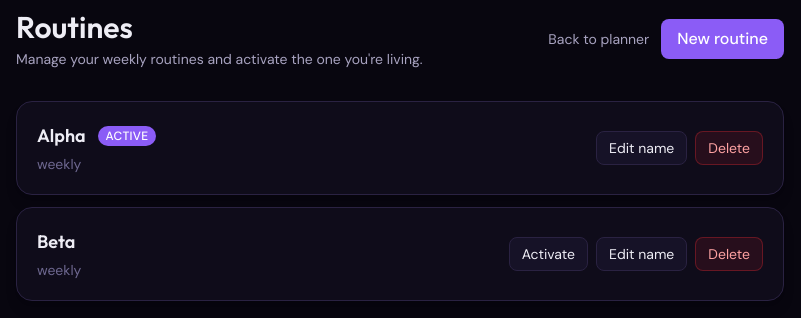
Test: Routines page › activates a routine and updates the active badge
Expected: the heading "Alpha" is shown, [37,122,86,150]
Expected: the text "Active" is shown, [98,126,156,146]
Click the button "Activate" at x=548, y=254, box [509,237,588,271]
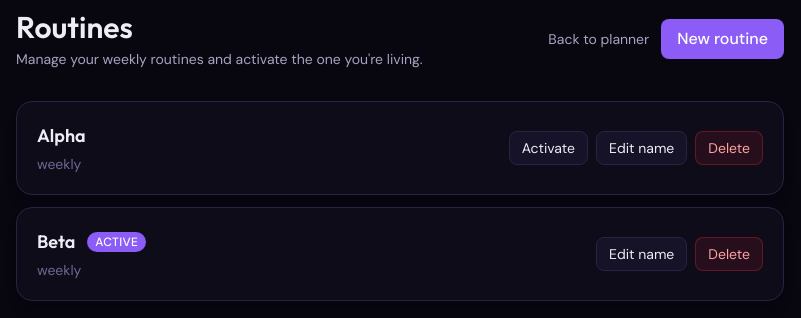
Expected: the text "Active" is shown, [87,232,146,252]
Expected: the text with test id "active-badge-r1" is gone
